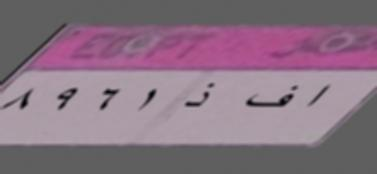1: (134, 84, 161, 117)
6: (93, 79, 122, 123)
8: (1, 85, 37, 121)
9: (49, 85, 82, 118)
alif: (302, 78, 332, 113)
faa: (242, 78, 299, 115)
zaal: (183, 79, 220, 112)
